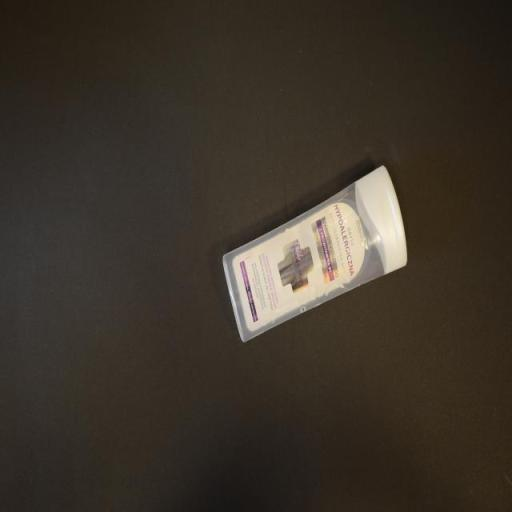plastic: (220, 162, 414, 347)
